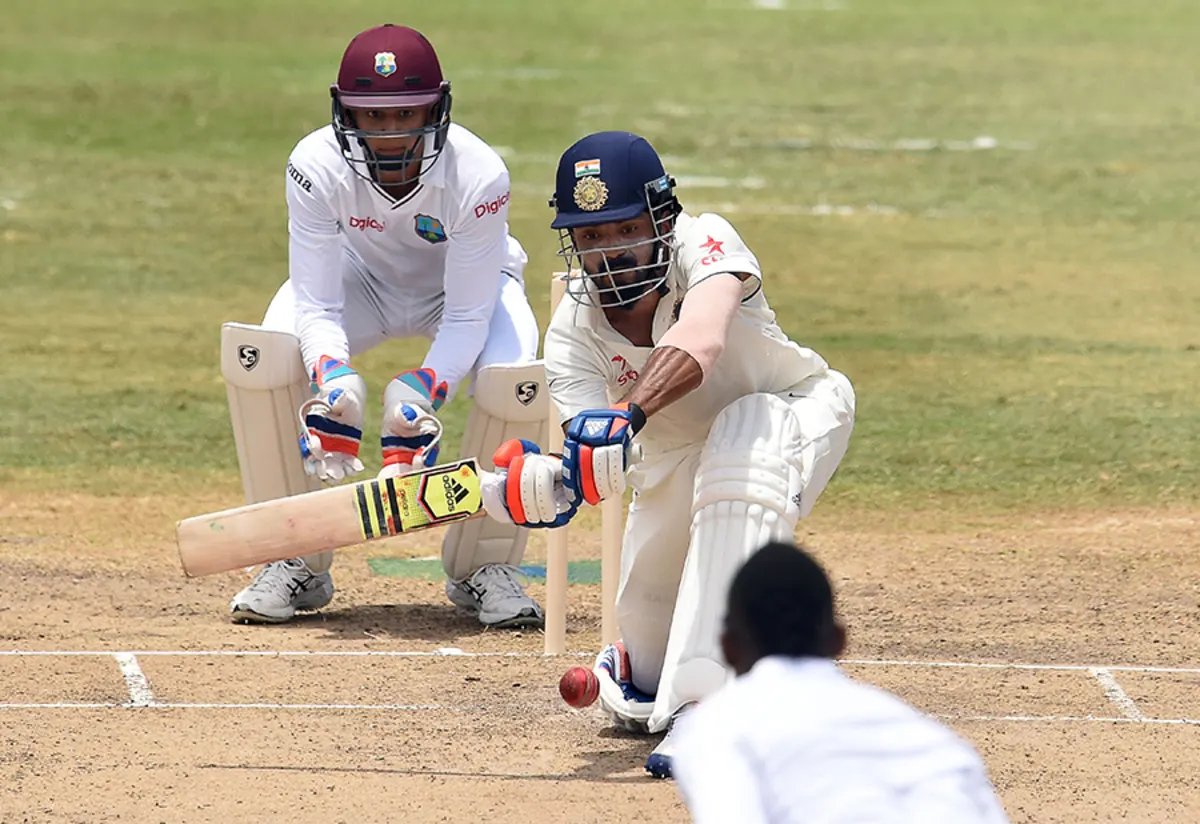Sweepshot: (62, 2, 1157, 824)
